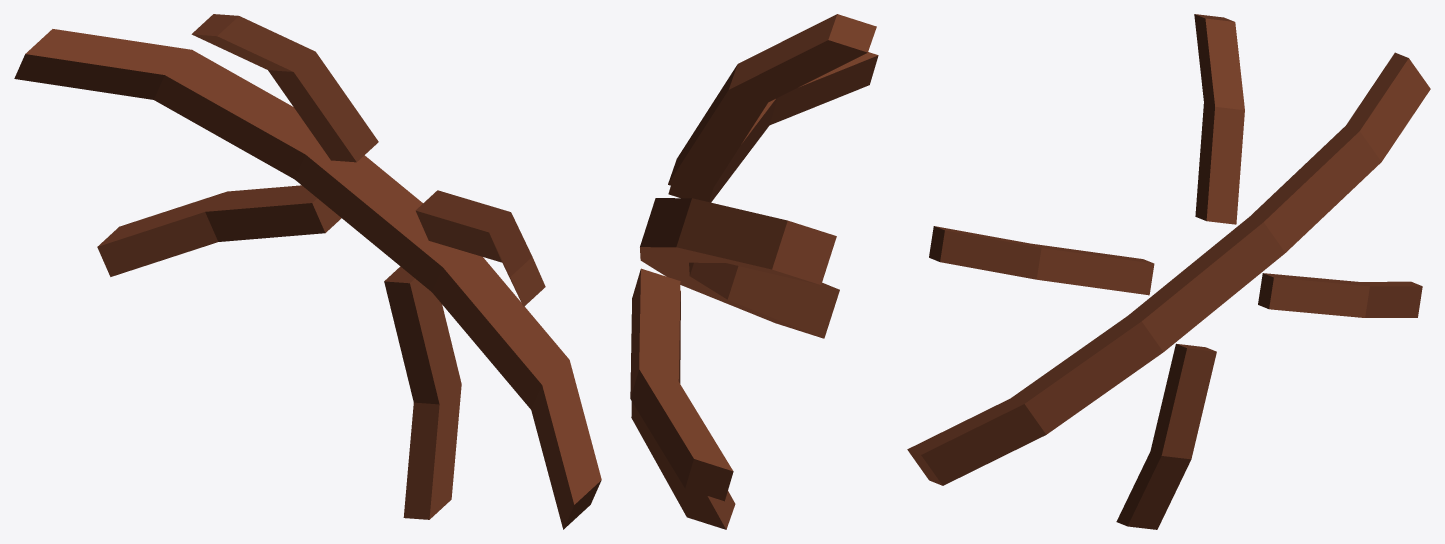
The model's file is multistrung_bows.glb.
3 views of the same model, side by side, from view 1: azimuth 30°, elevation 25°; view 2: azimuth 150°, elevation 25°; view 3: azimuth 270°, elevation 25° (orthographic). The views are drawn at different scales.
Visible parts, largest first — view 1: Cube; view 2: Cube; view 3: Cube.
Boxes of the visible parts, box(x1,y1,x2,y2) form: Cube: box(14, 14, 601, 529); Cube: box(630, 14, 878, 529); Cube: box(907, 14, 1430, 529).
Bounding box in the file's own units: 2.09 × 3.02 × 3.18.
Materials: 3 (3 with a texture image).
